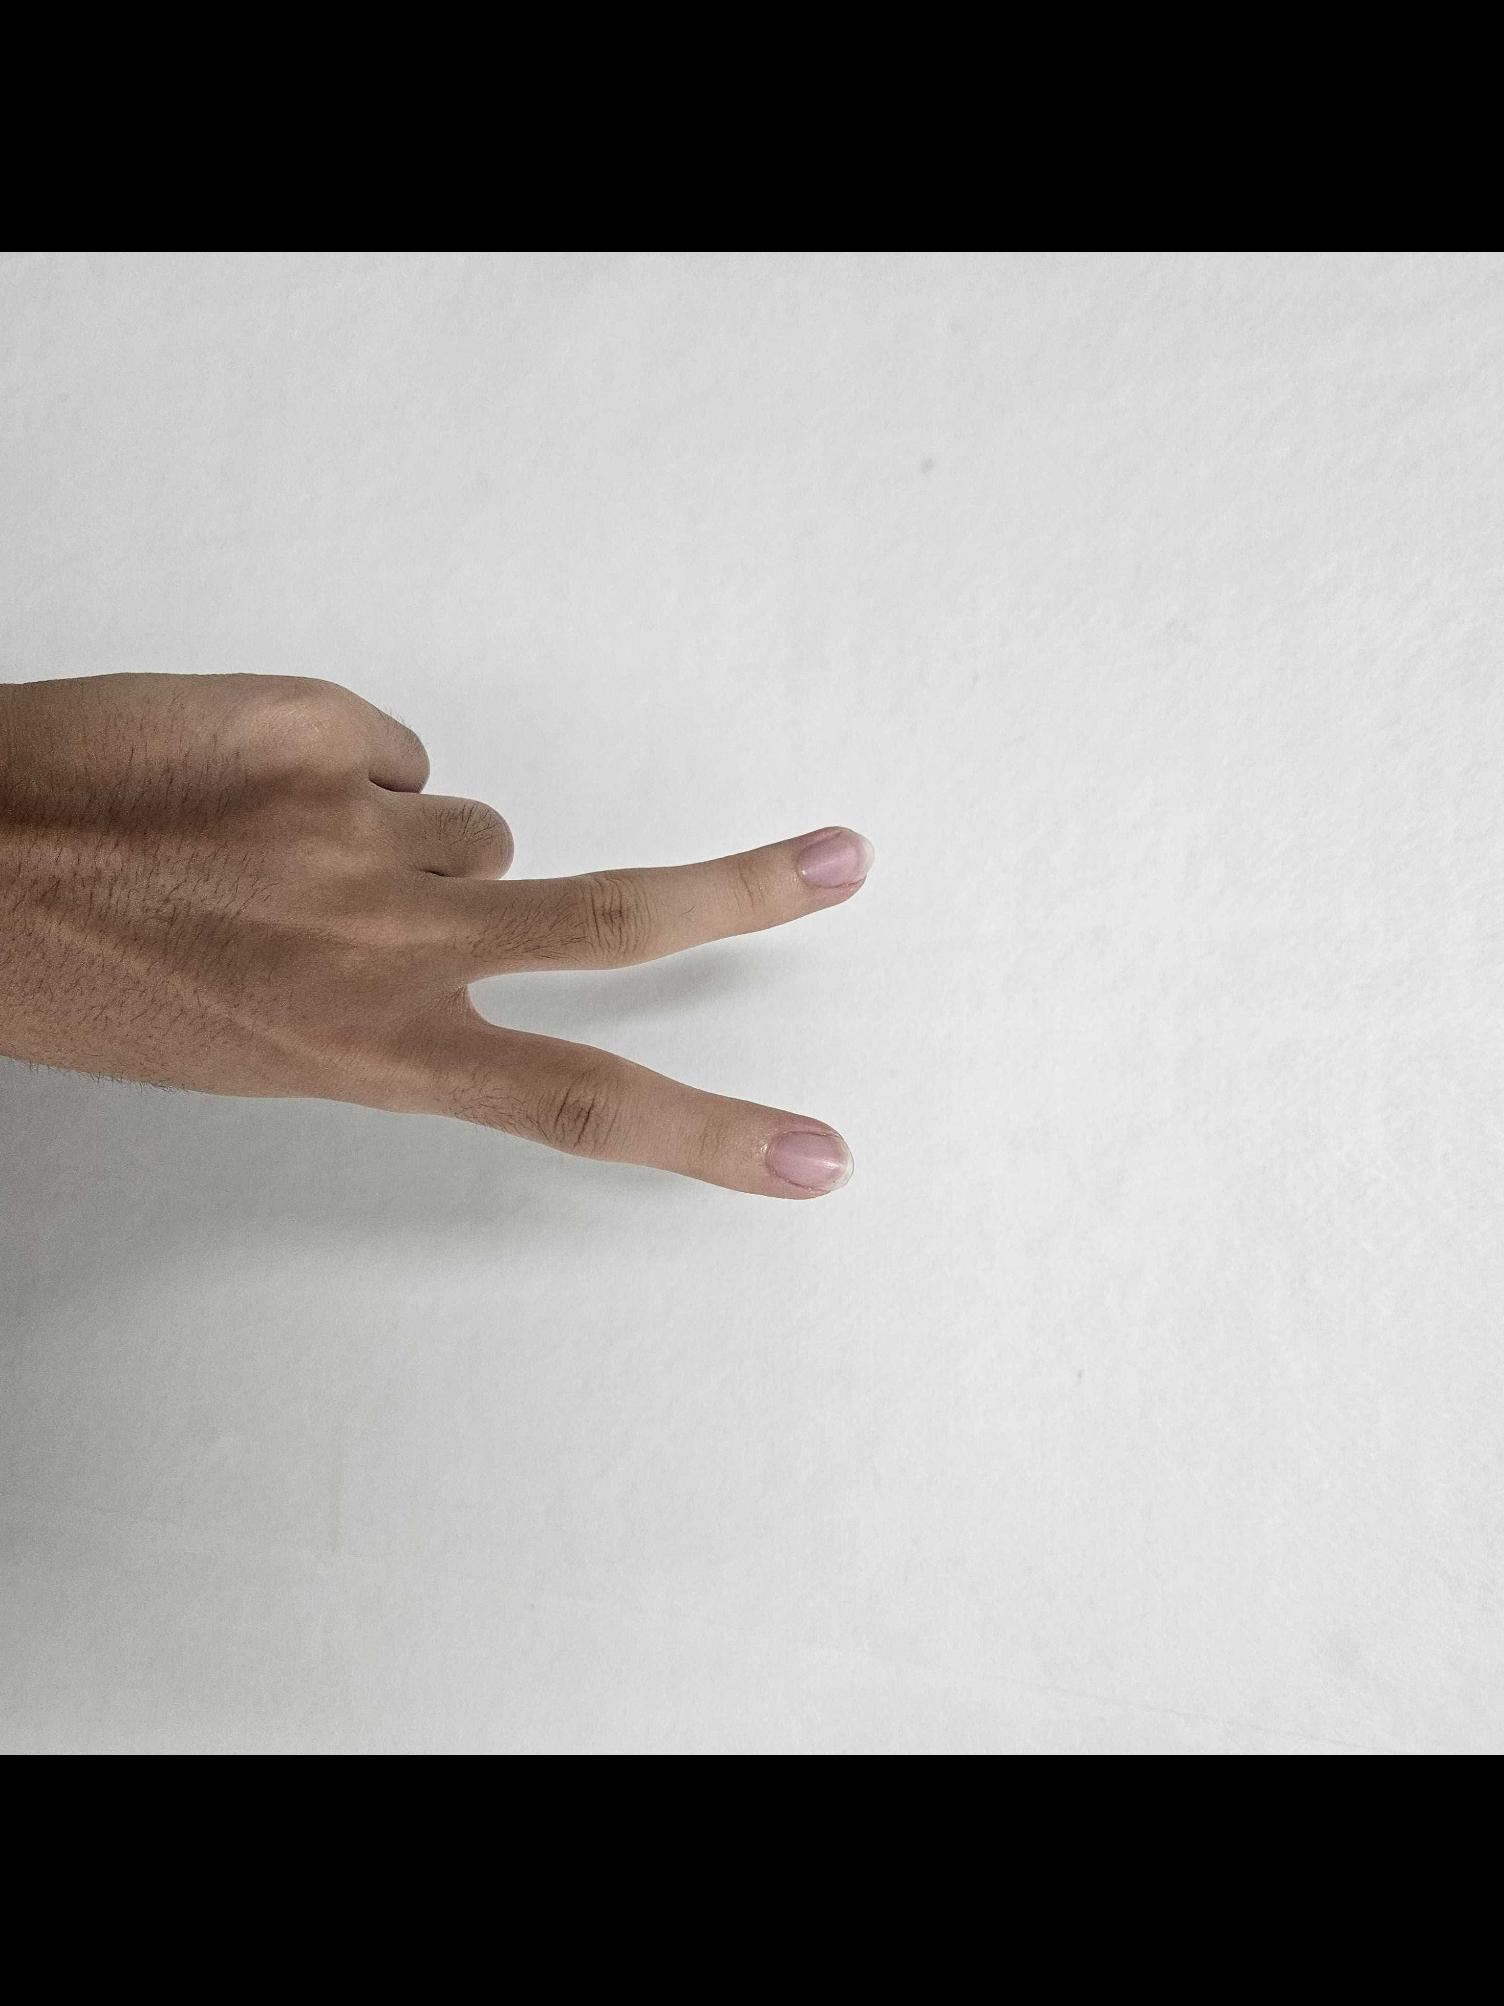v: (0, 627, 897, 1197)
